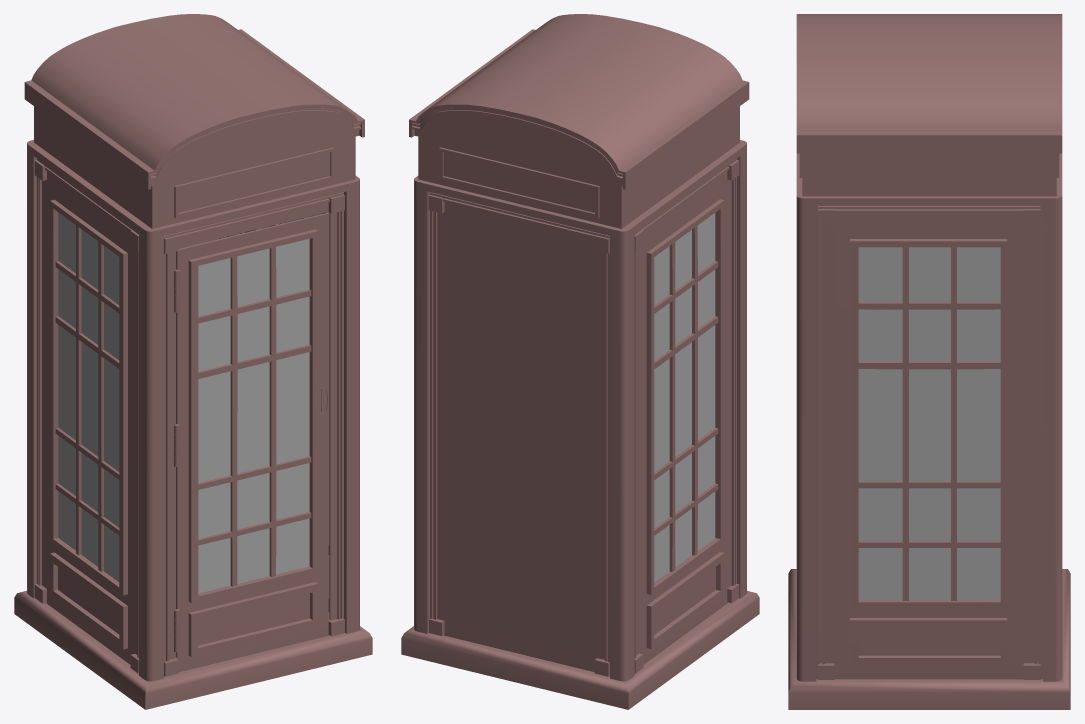
Rendered from call_box_low.fbx.
The picture shows the model from 3 angles, left to right: view 1: azimuth 30°, elevation 25°; view 2: azimuth 150°, elevation 25°; view 3: azimuth 270°, elevation 25°; orthographic projection. The views are drawn at different scales.
Visible parts, largest first — view 1: base_low, top_base_0_low, glass_low, ground_low, top_base_1_low, hinges_low; view 2: base_low, top_base_0_low, glass_low, ground_low, top_base_1_low; view 3: base_low, top_base_0_low, glass_low, ground_low.
Part boxes in pixels (left/top/right/bottom): base_low: left=27, top=140, right=359, bottom=681; top_base_0_low: left=24, top=14, right=364, bottom=228; glass_low: left=58, top=212, right=321, bottom=593; ground_low: left=14, top=591, right=372, bottom=709; top_base_1_low: left=179, top=152, right=330, bottom=212; hinges_low: left=174, top=269, right=179, bottom=652; base_low: left=414, top=140, right=746, bottom=681; top_base_0_low: left=409, top=14, right=749, bottom=228; glass_low: left=654, top=213, right=715, bottom=582; ground_low: left=401, top=591, right=759, bottom=709; top_base_1_low: left=443, top=152, right=594, bottom=212; base_low: left=796, top=153, right=1062, bottom=681; top_base_0_low: left=796, top=14, right=1062, bottom=196; glass_low: left=858, top=247, right=1000, bottom=599; ground_low: left=788, top=569, right=1070, bottom=709.
Size of the model in its own units: 11.73 by 27.91 by 11.73.
